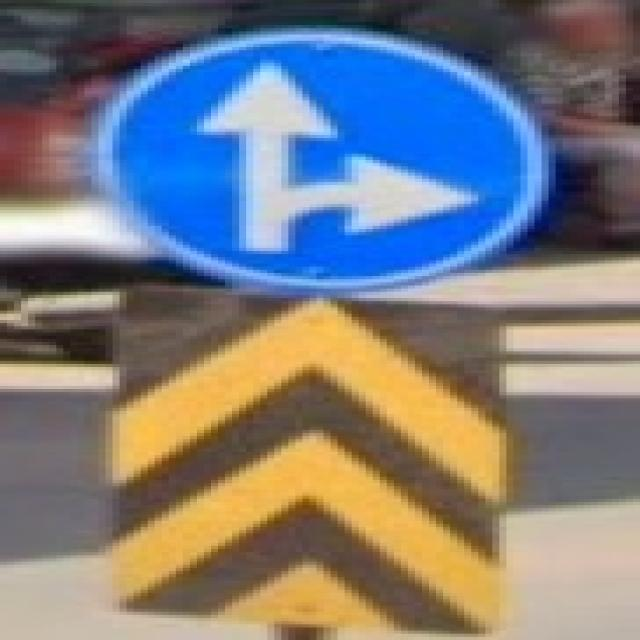Straight or Right: (103, 36, 553, 284)
